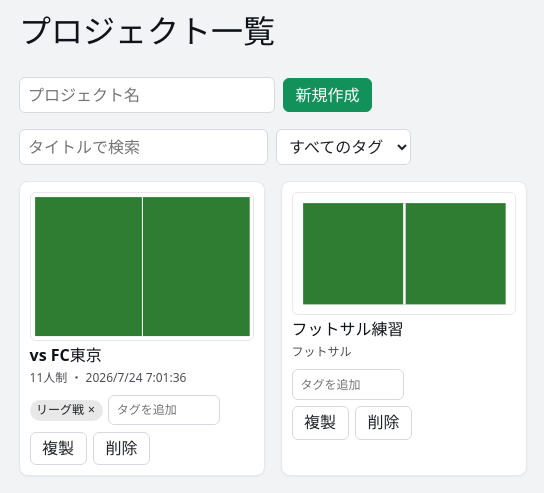
Test: ProjectListPage › タイトル検索で一覧が絞り込まれる
Expected: the text "vs FC東京" is shown, [30,345,102,366]
Type "フットサル" into the search field labelled "タイトルで検索". click: (144, 147)
box: [19,129,268,165]
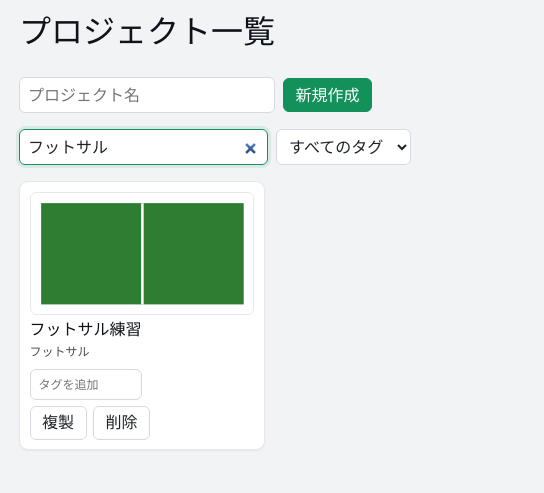
Expected: the text "フットサル練習" is shown, [30,319,142,340]
Expected: the button "vs FC東京" is gone
